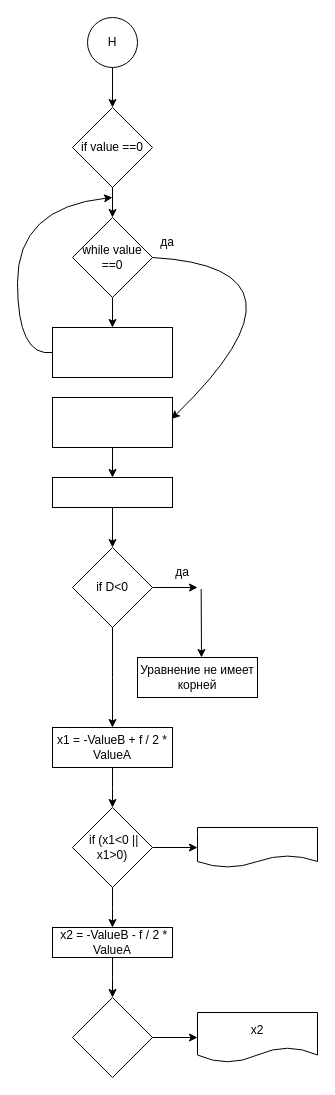
Some shapes in this 335 by 1095 pixel diagram are drawn without their labels. Each missing label, with the box of its shape:
D (Math.Pow(ValueB, 2) - 4 * ValueA * ValueC): (52, 396, 172, 448)
F = Math.Sqrt(D): (52, 476, 172, 508)
if (x2 < 0 || x2>0): (72, 996, 152, 1078)
x1: (196, 826, 318, 868)
ошибка. число не может быть равно нулю: (52, 326, 172, 378)
